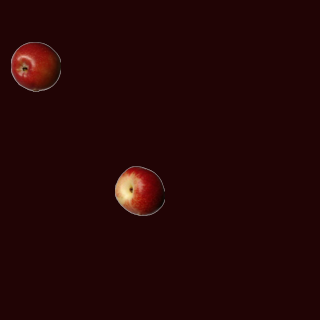Apple Braeburn: (10, 41, 60, 91)
Nectarine: (114, 165, 164, 215)
